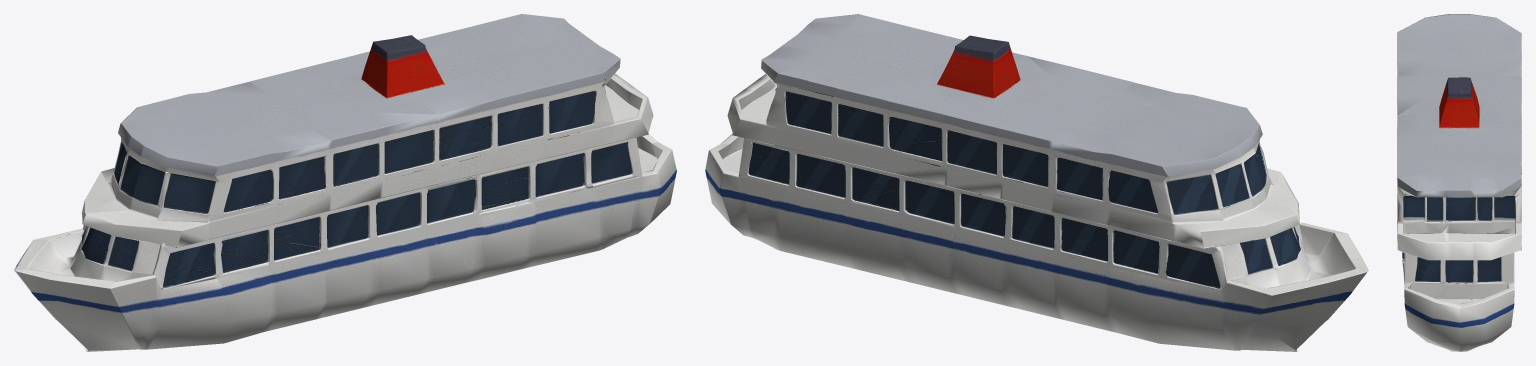
File: ship_passenger.glb
3 views of the same model, side by side, from view 1: azimuth 30°, elevation 25°; view 2: azimuth 150°, elevation 25°; view 3: azimuth 270°, elevation 25° (orthographic). The views are drawn at different scales.
Parts seen in each view (by area): view 1: geometry_0; view 2: geometry_0; view 3: geometry_0.
Part boxes in pixels (x1,y1,x2,y2): geometry_0: (14, 14, 676, 351); geometry_0: (705, 14, 1368, 351); geometry_0: (1397, 14, 1521, 351).
Size of the model in its own units: 0.9458 by 0.332 by 0.2026.
1 material, 1 textured.
